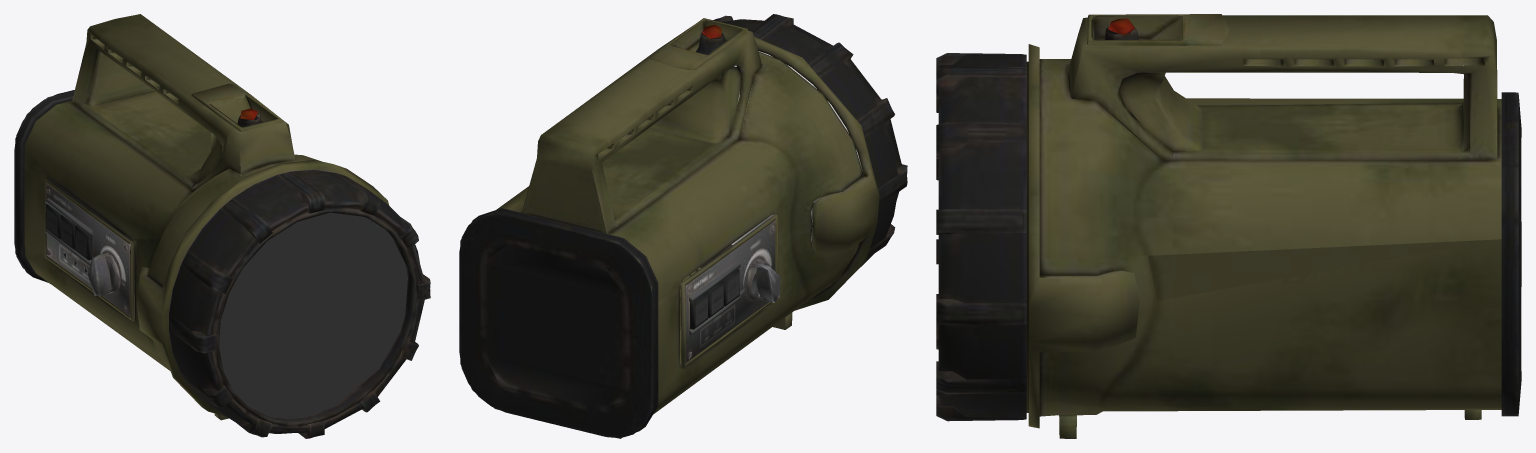
The model's file is portable_searchlight.gltf.
3 renders of one model, left to right at view 1: azimuth 30°, elevation 25°; view 2: azimuth 150°, elevation 25°; view 3: azimuth 270°, elevation 25°, orthographic. The views are drawn at different scales.
Visible parts, largest first — view 1: portable_searchlight; view 2: portable_searchlight; view 3: portable_searchlight.
Boxes of the visible parts, x1,y1,x2,y2 form: portable_searchlight: (14,14,430,438); portable_searchlight: (459,14,907,438); portable_searchlight: (936,14,1521,438).
Bounding box in the file's own units: 0.1654 × 0.1852 × 0.2534.
Materials: 2 (2 with a texture image).
